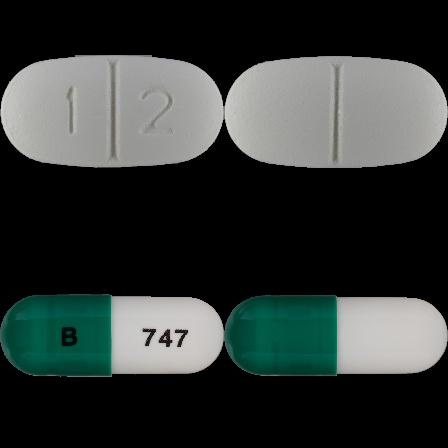68788-9299: (0, 0, 224, 224)
